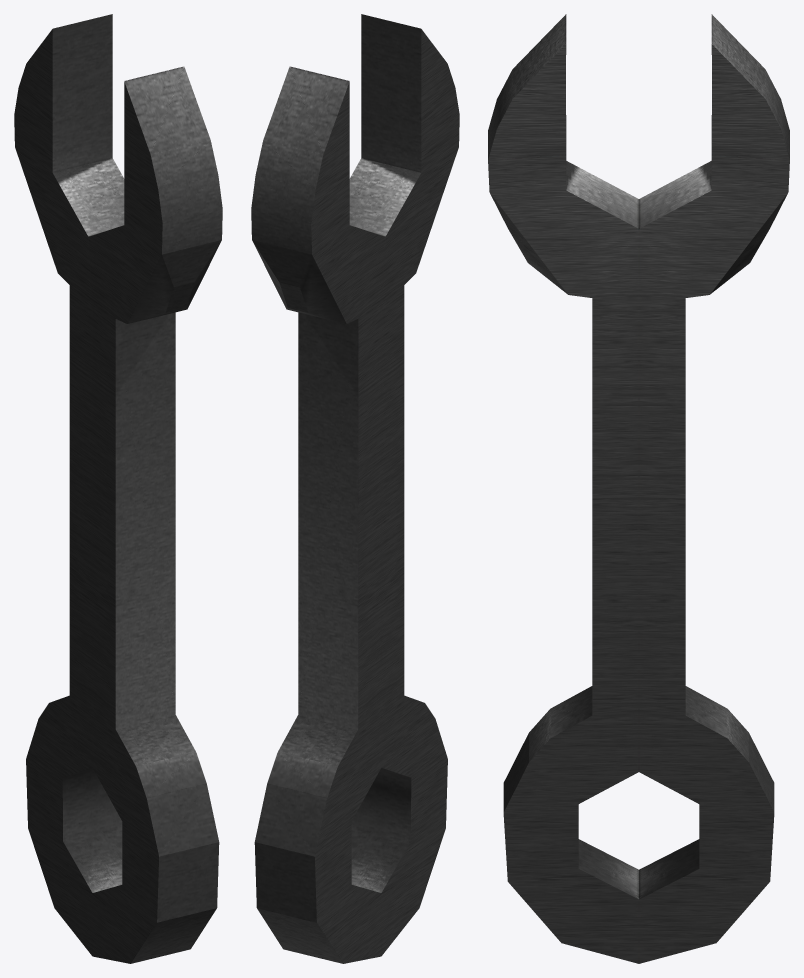
Rendered from key_mat2.fbx.
The picture shows the model from 3 angles, left to right: view 1: azimuth 30°, elevation 25°; view 2: azimuth 150°, elevation 25°; view 3: azimuth 270°, elevation 25°; orthographic projection.
Parts seen in each view (by area): view 1: Cube; view 2: Cube; view 3: Cube.
Boxes of the visible parts, bbox=[...] form: Cube: bbox=[14, 14, 222, 963]; Cube: bbox=[251, 14, 459, 963]; Cube: bbox=[488, 14, 789, 963].
Size of the model in its own units: 29.63 by 398 by 119.
1 material, 1 textured.
